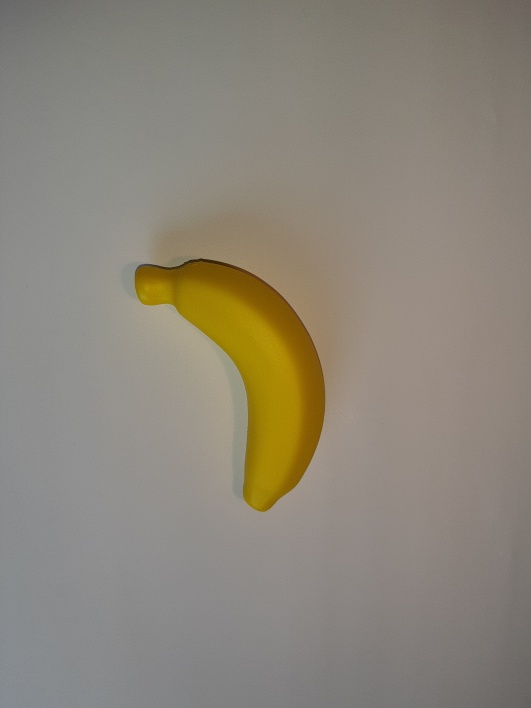banana: (136, 258, 322, 374)
